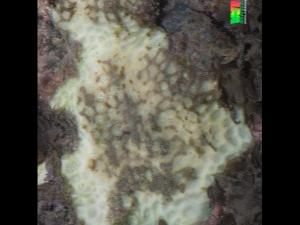bleached_corals: (51, 0, 251, 225)
